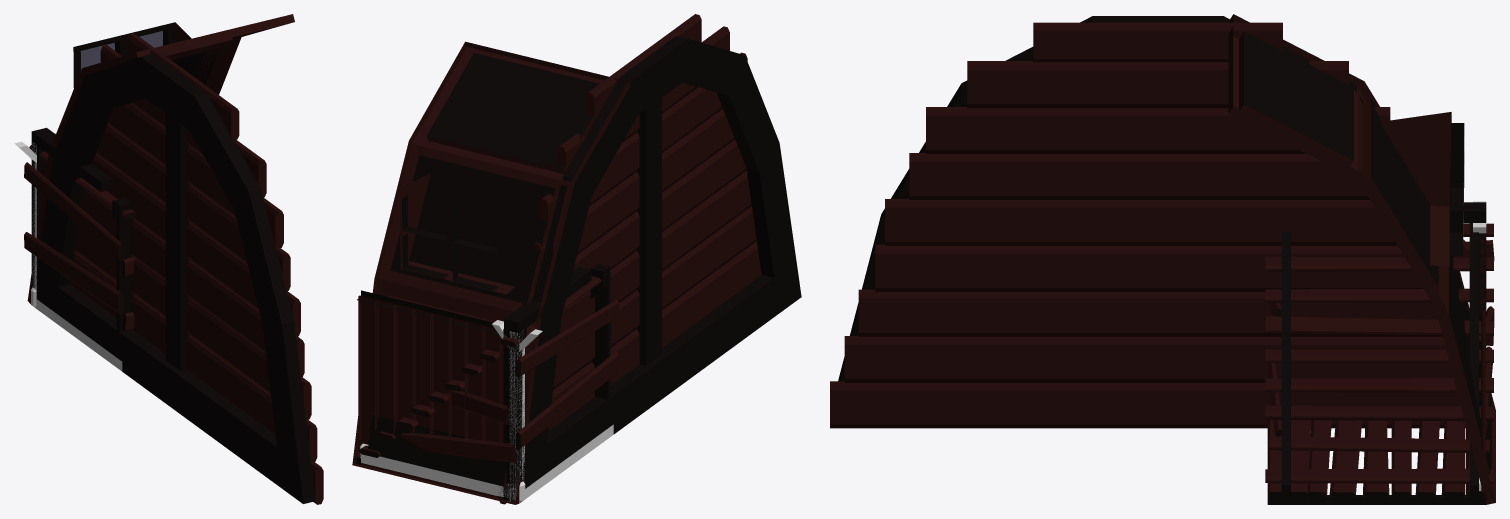
The model's file is Mesh_joeysbarnkit.fbx.
3 renders of one model, left to right at view 1: azimuth 30°, elevation 25°; view 2: azimuth 150°, elevation 25°; view 3: azimuth 270°, elevation 25°, orthographic. The views are drawn at different scales.
Parts seen in each view (by area): view 1: BarnWall, Stairs, CeilingWindow, Ceiling_01, Post_02, Post_03, Post_01; view 2: BarnWall, Ceiling_01, Wall_01, Stairs, CeilingWindow, Post_02, Railing, Post_01, Post_03; view 3: BarnWall, Stairs, Ceiling_01, Floorboards, CeilingWindow, Stair_floor, Wall_01.
Part boxes in pixels (bbox=[...]): BarnWall: bbox=[35, 33, 323, 504]; Stairs: bbox=[24, 142, 135, 358]; CeilingWindow: bbox=[28, 14, 292, 303]; Ceiling_01: bbox=[27, 14, 294, 303]; Post_02: bbox=[31, 127, 113, 291]; Post_03: bbox=[35, 299, 122, 371]; Post_01: bbox=[15, 133, 56, 298]; BarnWall: bbox=[498, 14, 801, 504]; Ceiling_01: bbox=[352, 41, 630, 504]; Wall_01: bbox=[357, 290, 503, 461]; Stairs: bbox=[359, 263, 618, 502]; CeilingWindow: bbox=[400, 91, 622, 504]; Post_02: bbox=[504, 267, 591, 502]; Railing: bbox=[360, 443, 525, 502]; Post_01: bbox=[492, 320, 542, 501]; Post_03: bbox=[504, 424, 613, 503]; BarnWall: bbox=[830, 16, 1465, 428]; Stairs: bbox=[1265, 223, 1494, 504]; Ceiling_01: bbox=[1228, 14, 1495, 504]; Floorboards: bbox=[1267, 419, 1486, 504]; CeilingWindow: bbox=[1228, 16, 1495, 502]; Stair_floor: bbox=[1267, 419, 1485, 504]; Wall_01: bbox=[1476, 233, 1486, 491].
Size of the model in its own units: 279 by 509 by 761.
